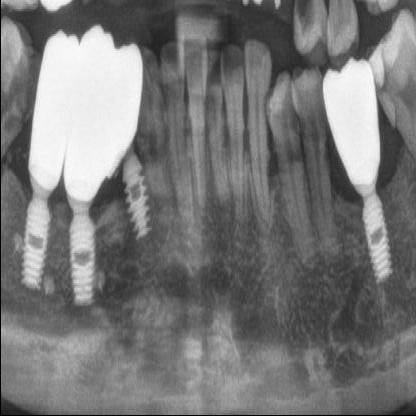Bicon: (66, 216, 100, 302), (362, 198, 392, 286), (22, 197, 49, 292)
